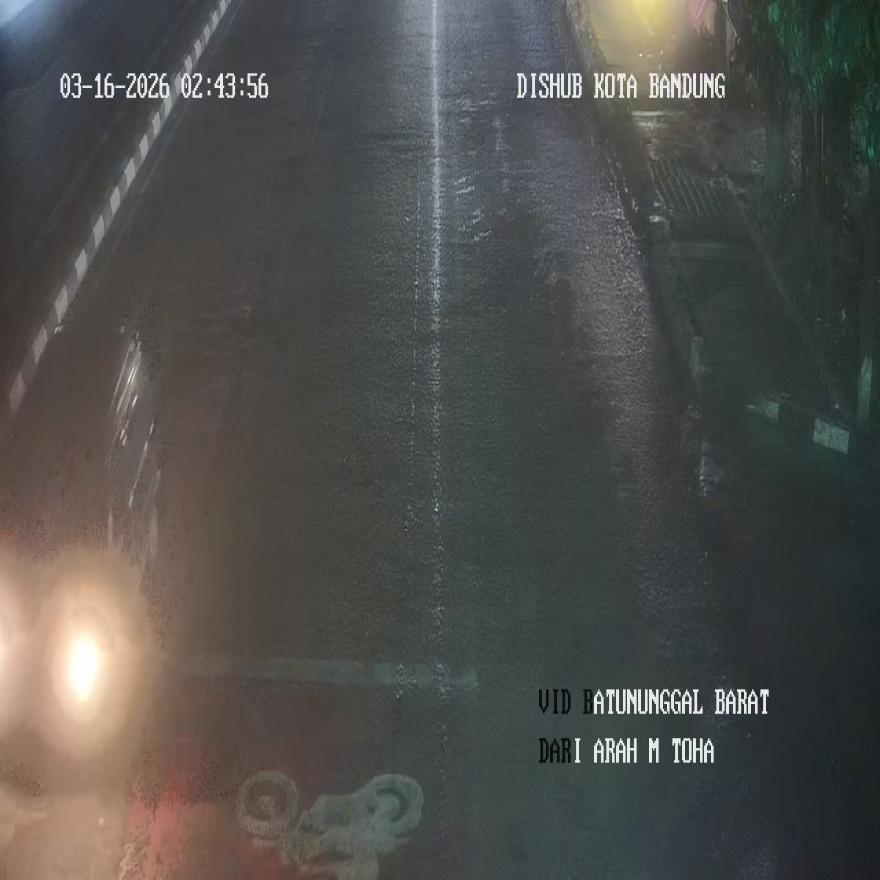Mobil: (2, 326, 161, 703)
